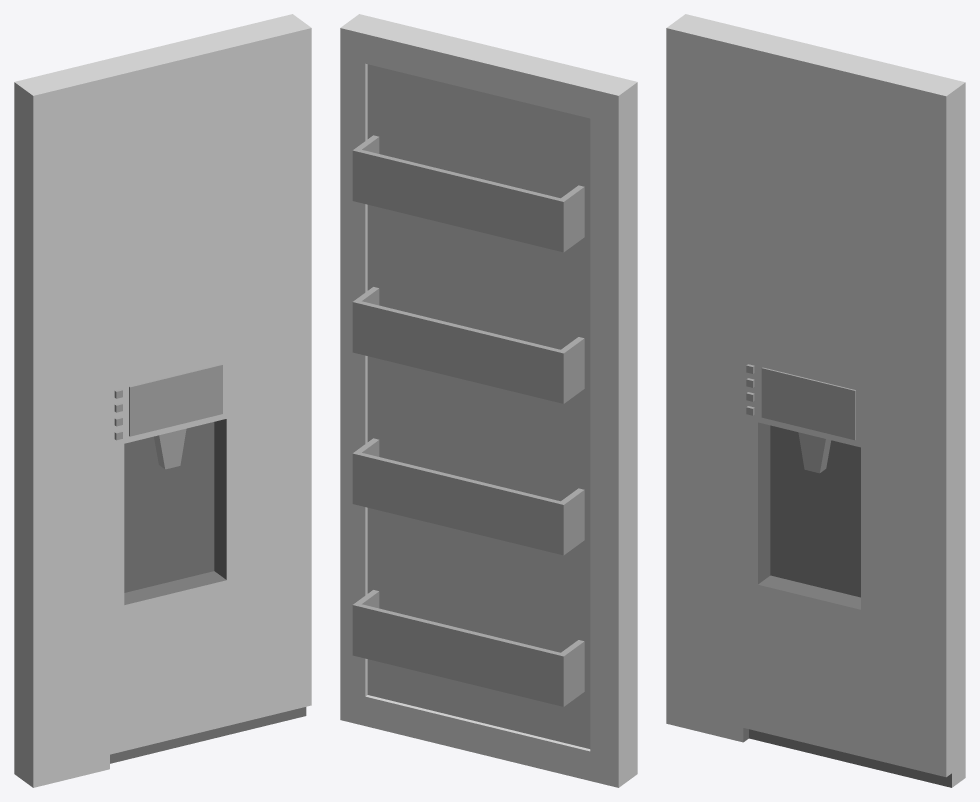
File: Refrigerator3_C1_06.fbx
3 renders of one model, left to right at view 1: azimuth 30°, elevation 25°; view 2: azimuth 150°, elevation 25°; view 3: azimuth 330°, elevation 25°, orthographic.
Visible parts, largest first — view 1: Refrigerator3_C1_06; view 2: Refrigerator3_C1_06; view 3: Refrigerator3_C1_06.
Part boxes in pixels (x1,y1,x2,y2): Refrigerator3_C1_06: (14, 14, 311, 787); Refrigerator3_C1_06: (340, 14, 637, 787); Refrigerator3_C1_06: (666, 14, 965, 787).
Bounding box in the file's own units: 42.12 × 100 × 10.31.
